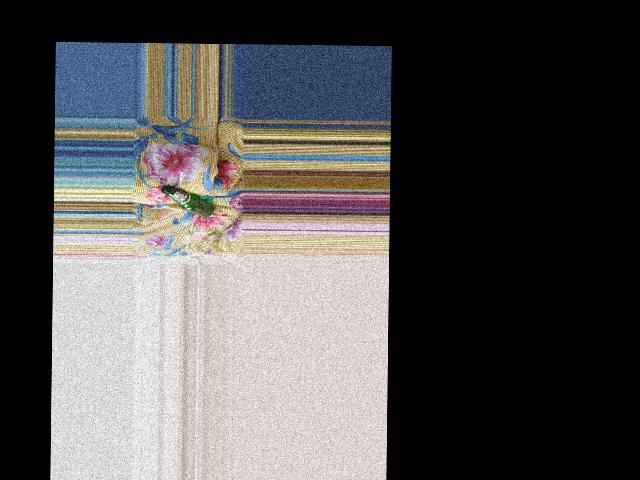beer: (161, 184, 213, 216)
